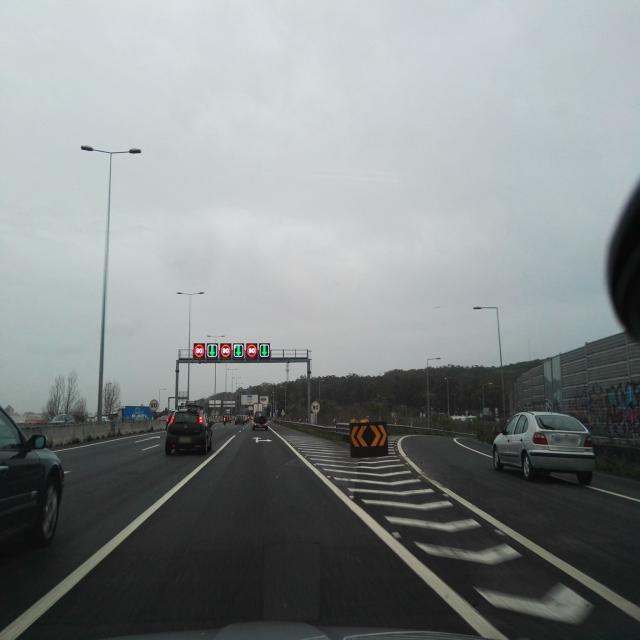car: (0, 383, 65, 598), (492, 410, 596, 486), (164, 404, 213, 456), (48, 414, 75, 425), (252, 414, 269, 431), (234, 413, 246, 426), (222, 414, 232, 425)
